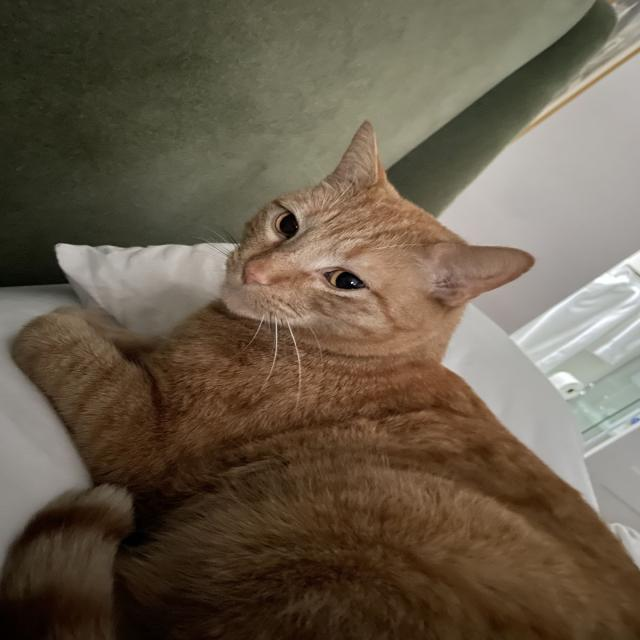sarman: (0, 75, 585, 640)
